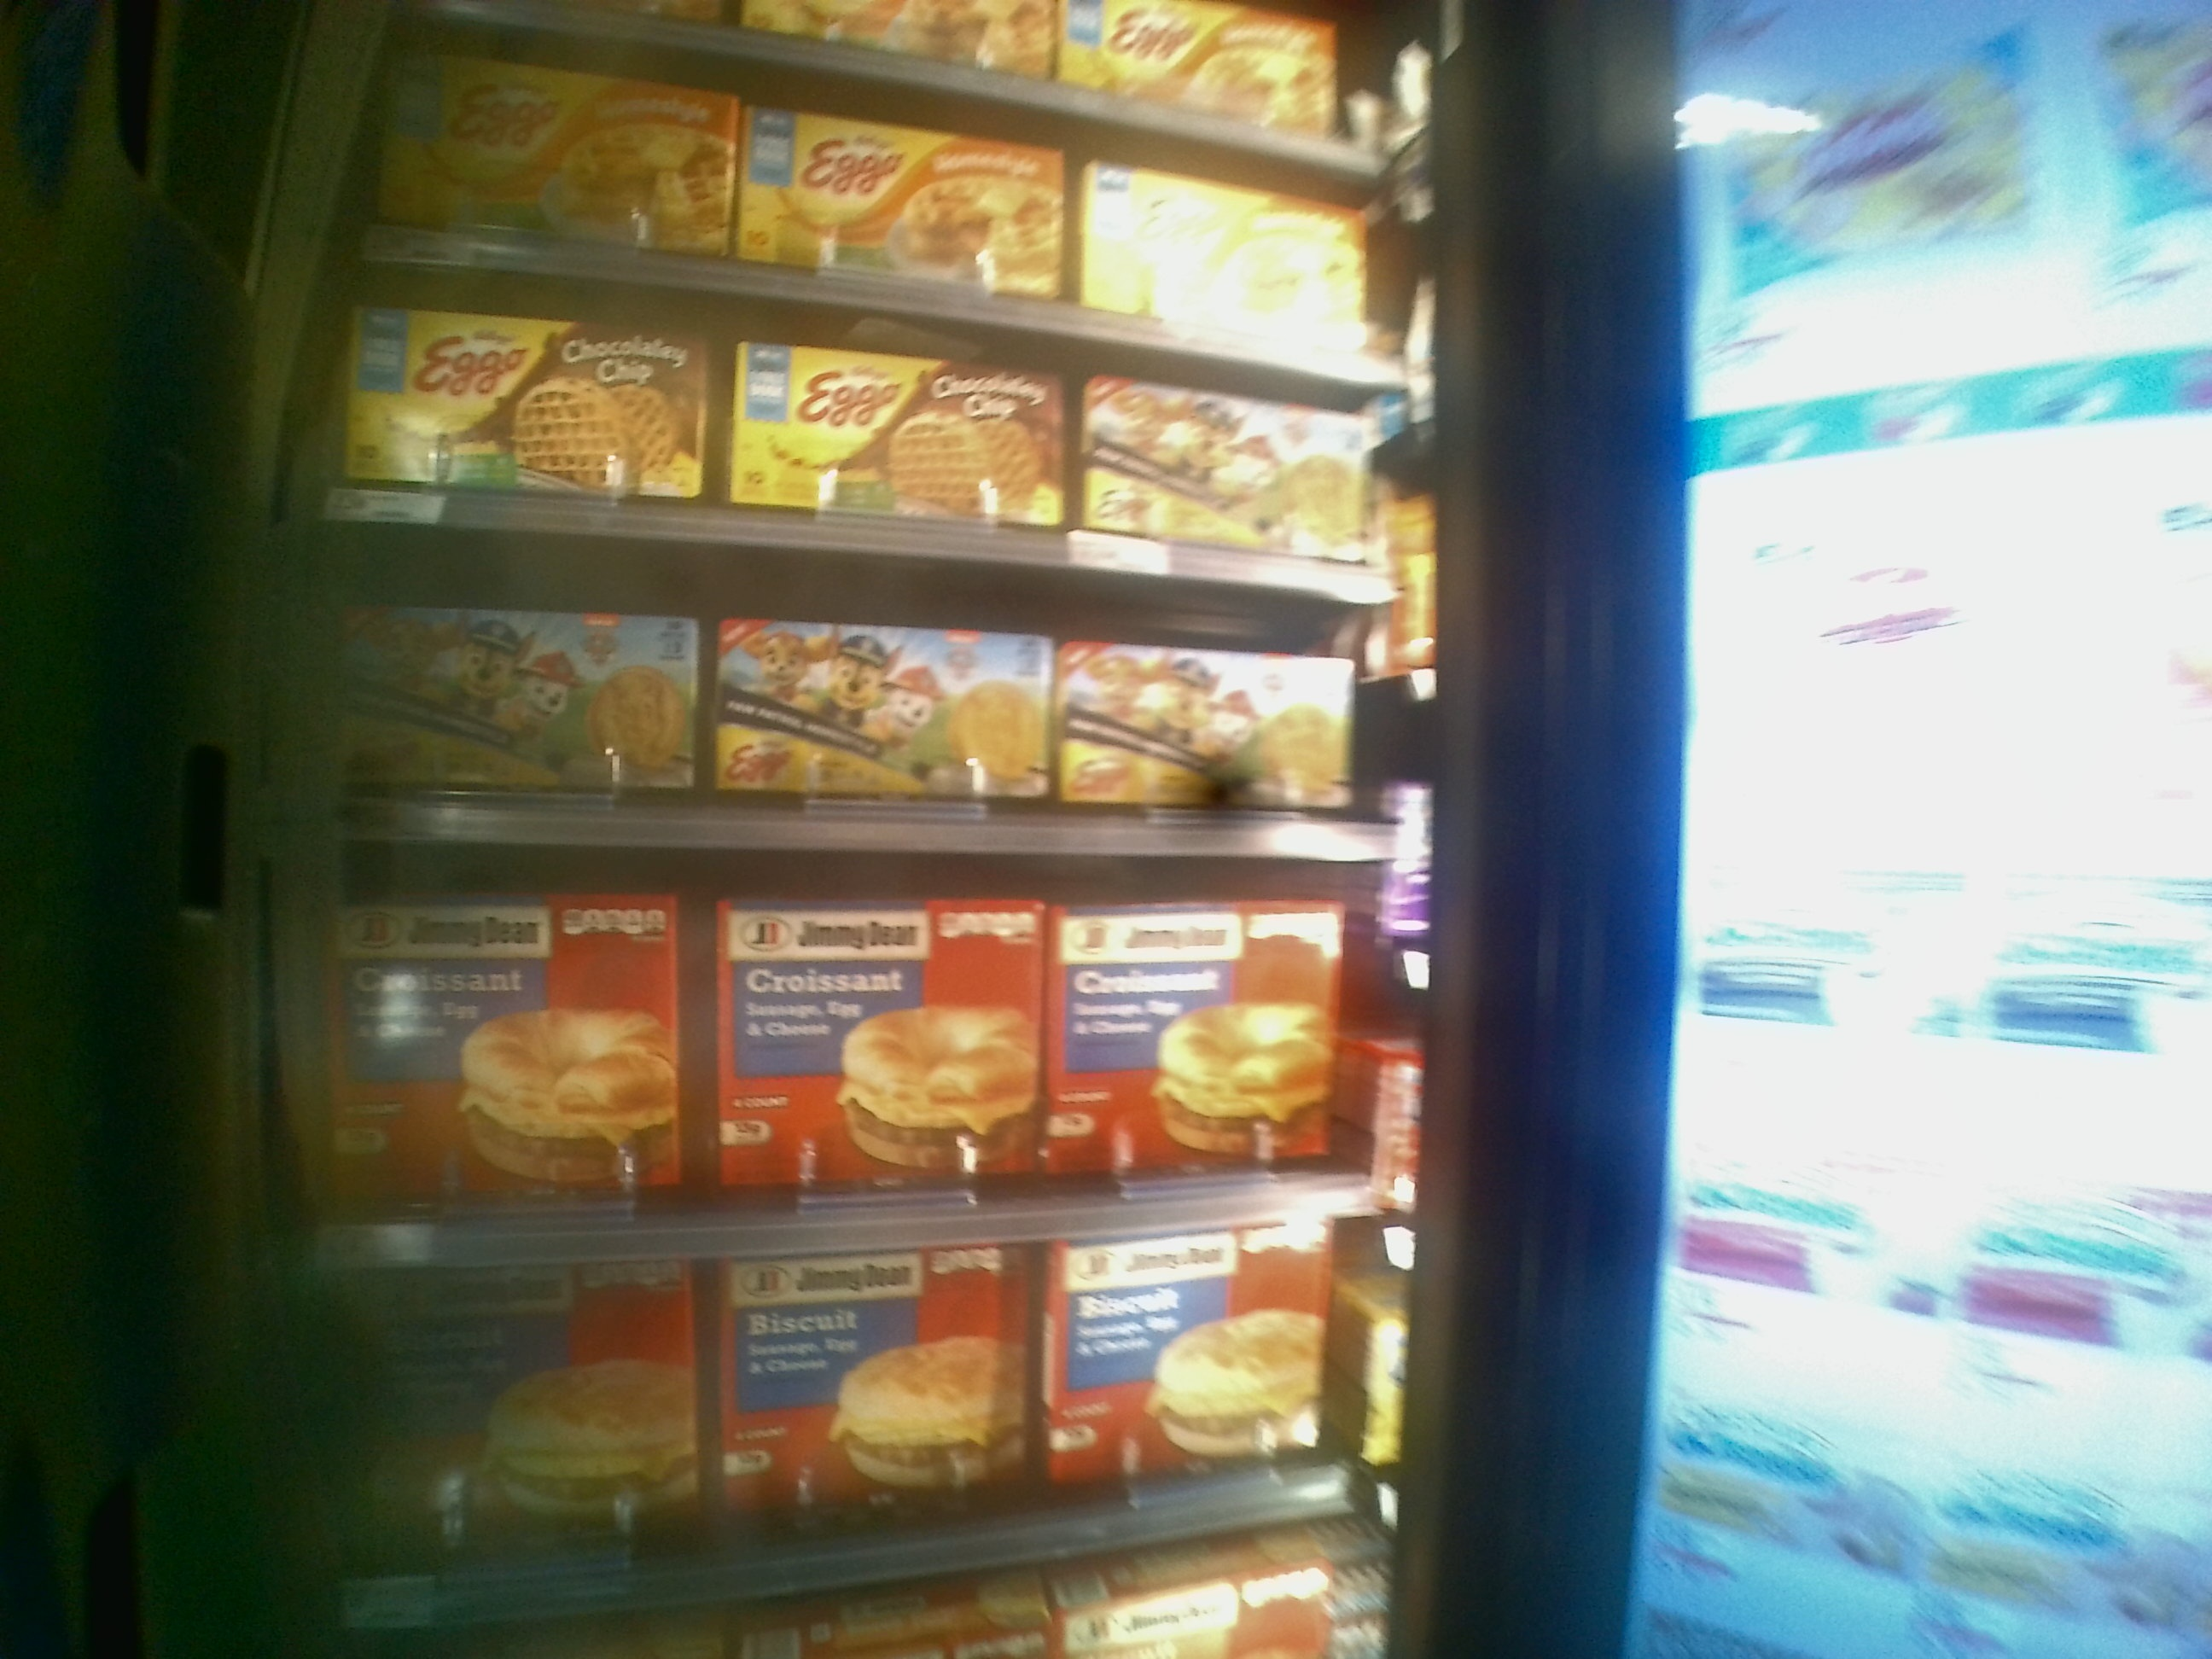shelf: (348, 842, 1388, 1269), (331, 254, 1411, 603), (334, 523, 1413, 859)
